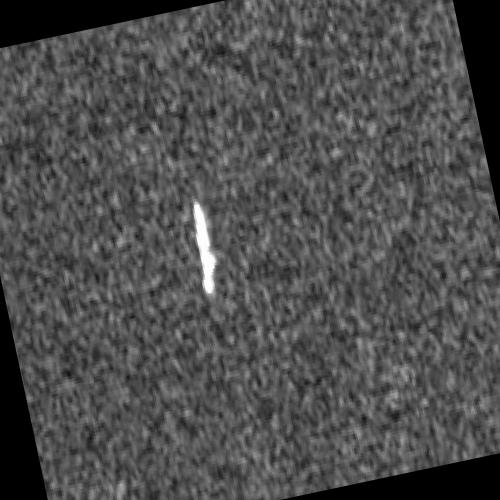ship: (191, 199, 216, 296)
